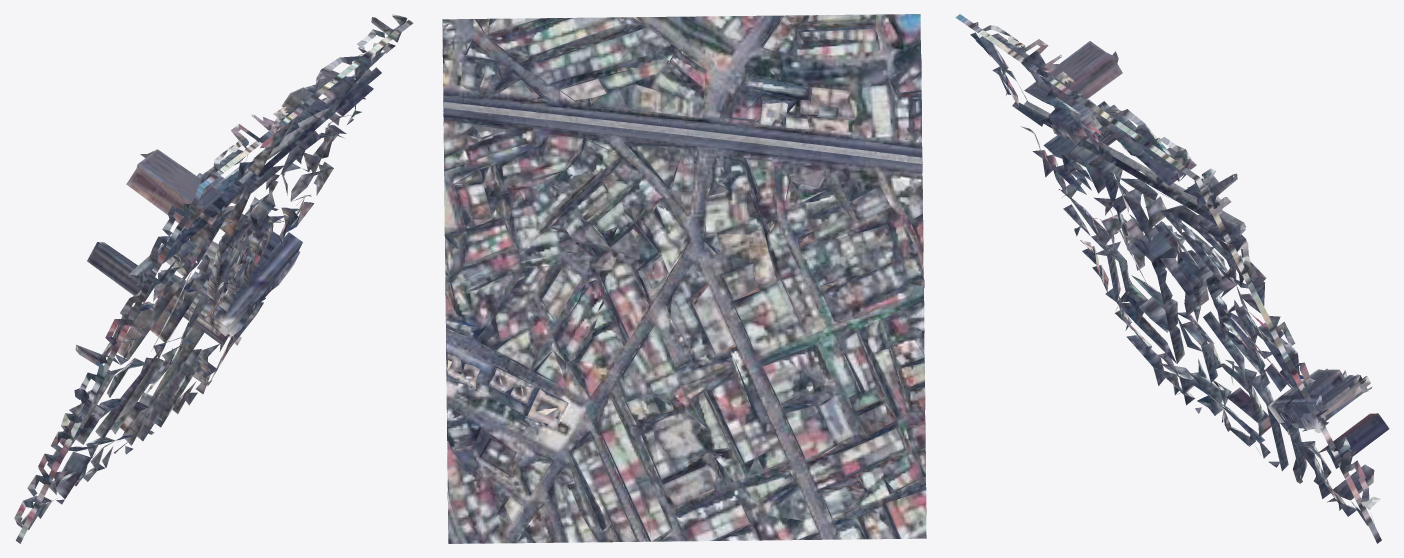
The picture shows the model from 3 angles, left to right: view 1: azimuth 30°, elevation 25°; view 2: azimuth 150°, elevation 25°; view 3: azimuth 270°, elevation 25°; orthographic projection. The views are drawn at different scales.
Size of the model in its own units: 613 by 567 by 528.
1 material, 1 textured.
